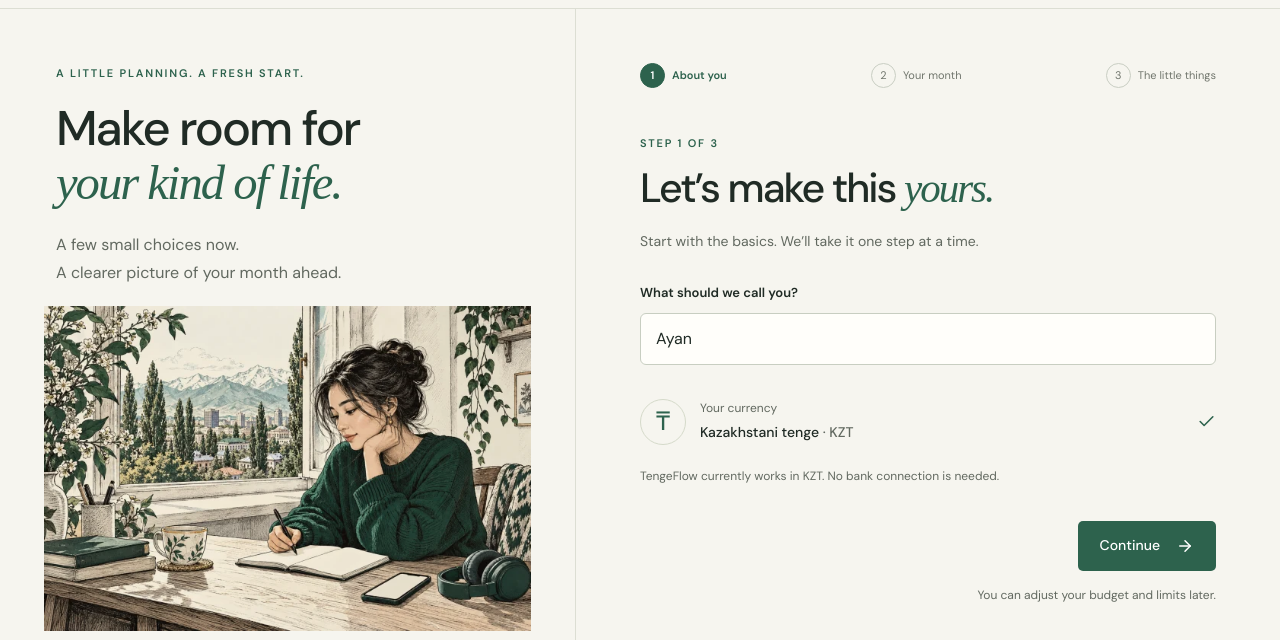
Test case: preserves edited limits when going back to change the budget
The width and height of the screenshot is (1280, 640).
Click the button "Continue": (1147,546) [1078,521,1216,571]
(page scrolled)
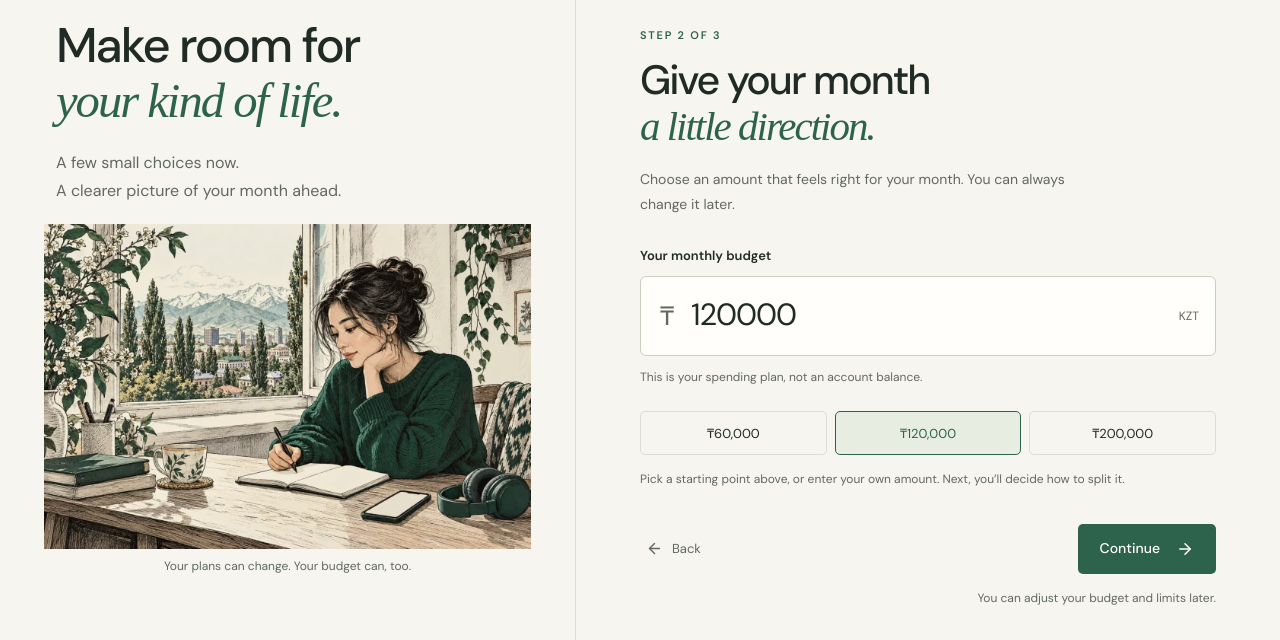
Click the button "Continue": (1147,549) [1078,524,1216,574]
(page scrolled)
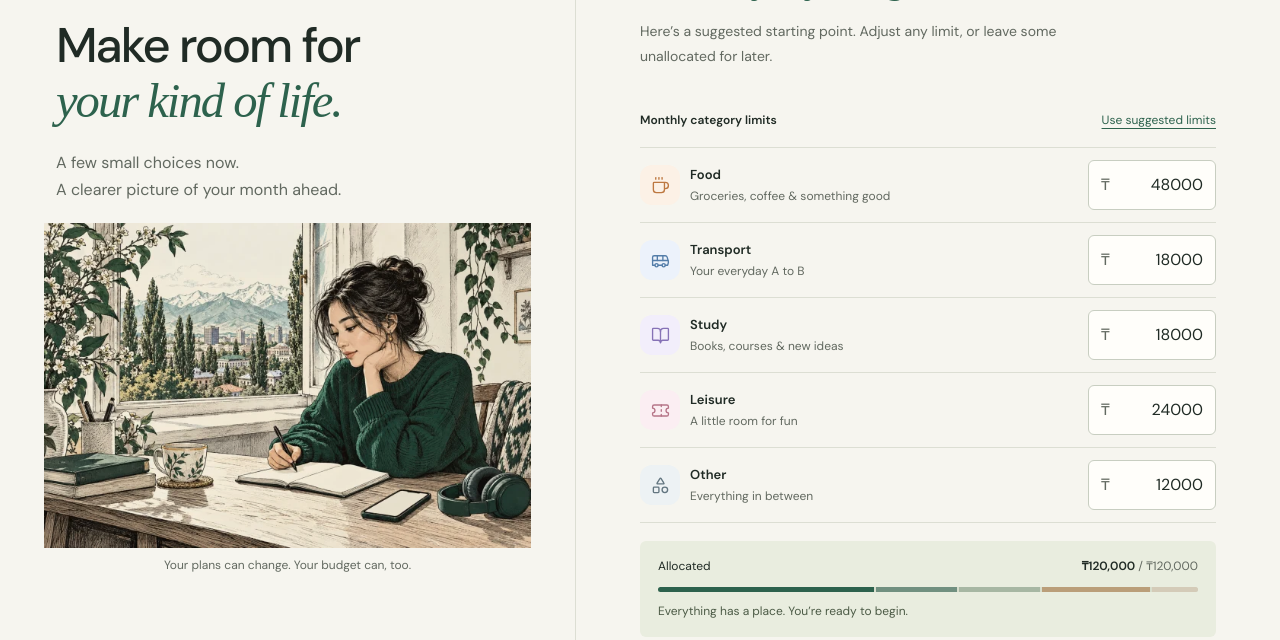
Replace the text in the field named "Food monthly limit" with "12345.67": (1152,185) [1088,160,1216,210]
(page scrolled)
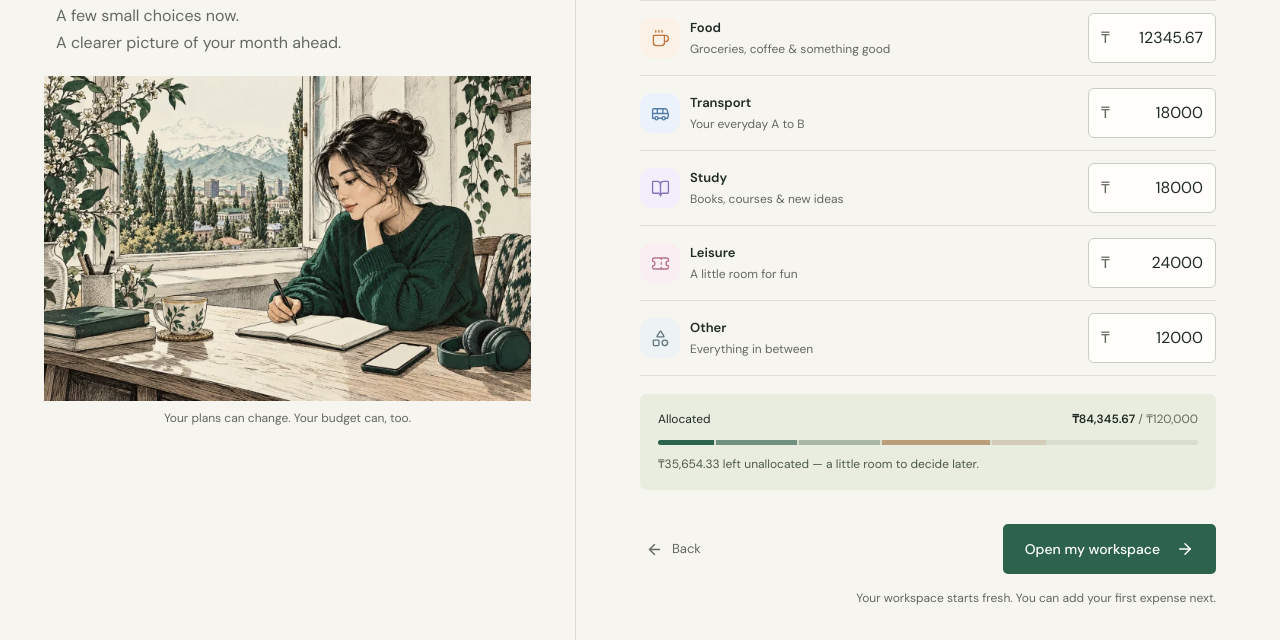
Click the button "Back": (673,549) [640,524,707,574]
(page scrolled)
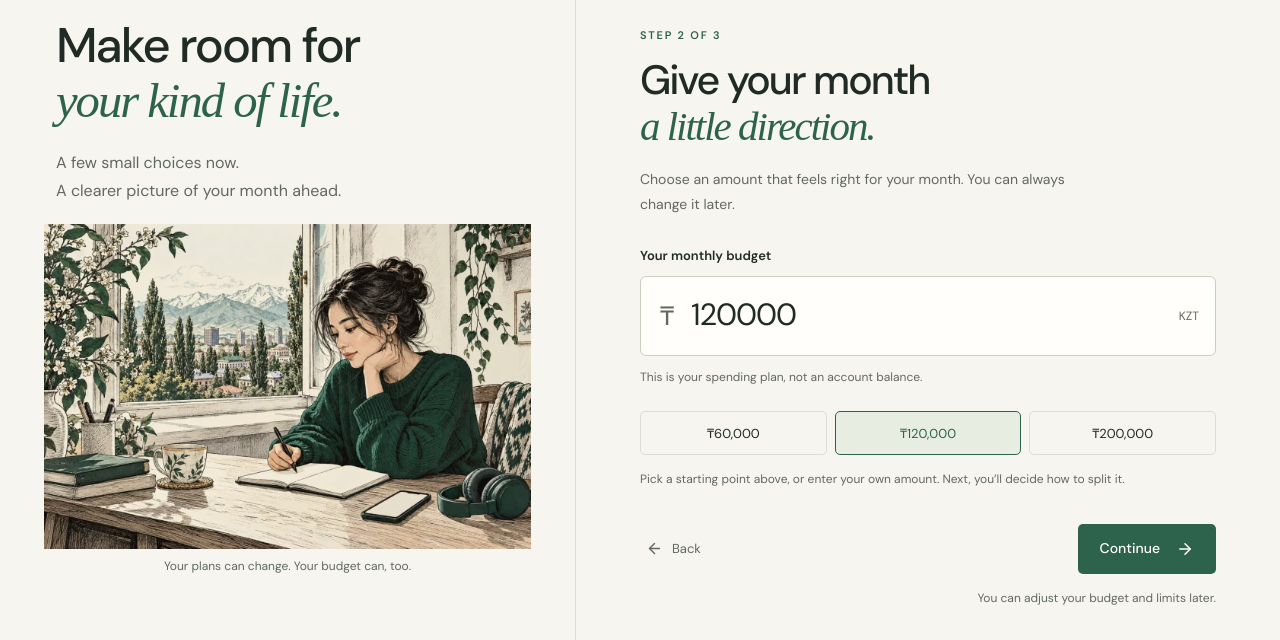
Replace the text in the field labelled "Your monthly budget" with "60000": (928,316) [640,276,1216,356]
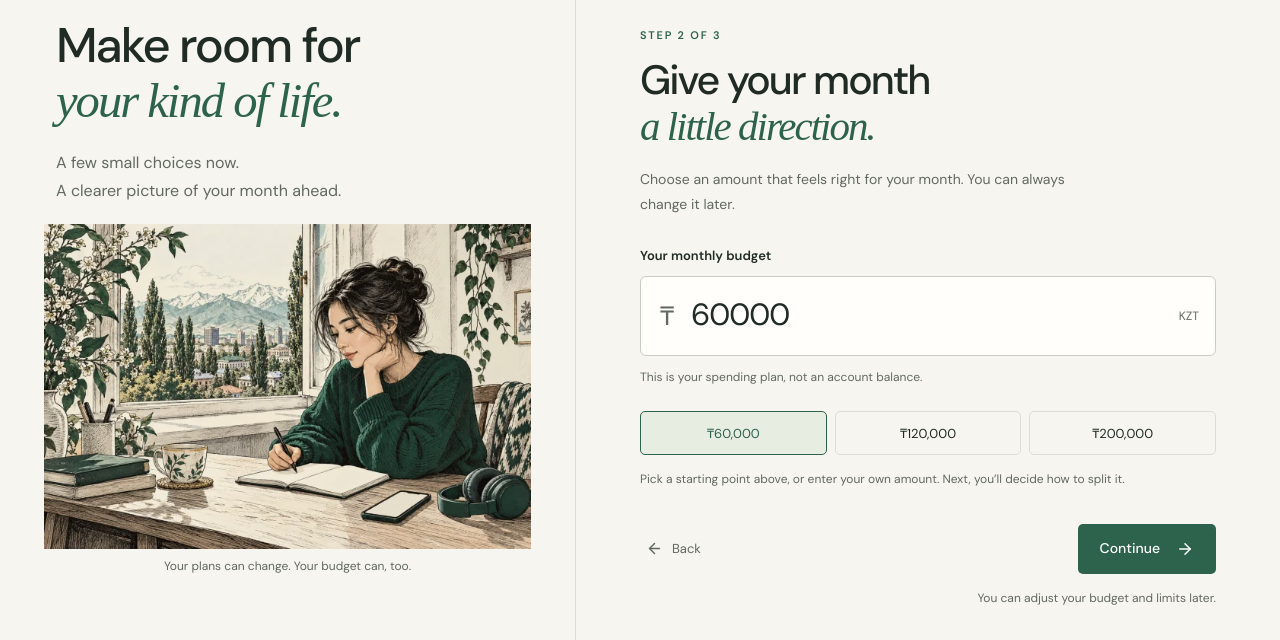
Click the button "Continue": (1147,549) [1078,524,1216,574]
(page scrolled)
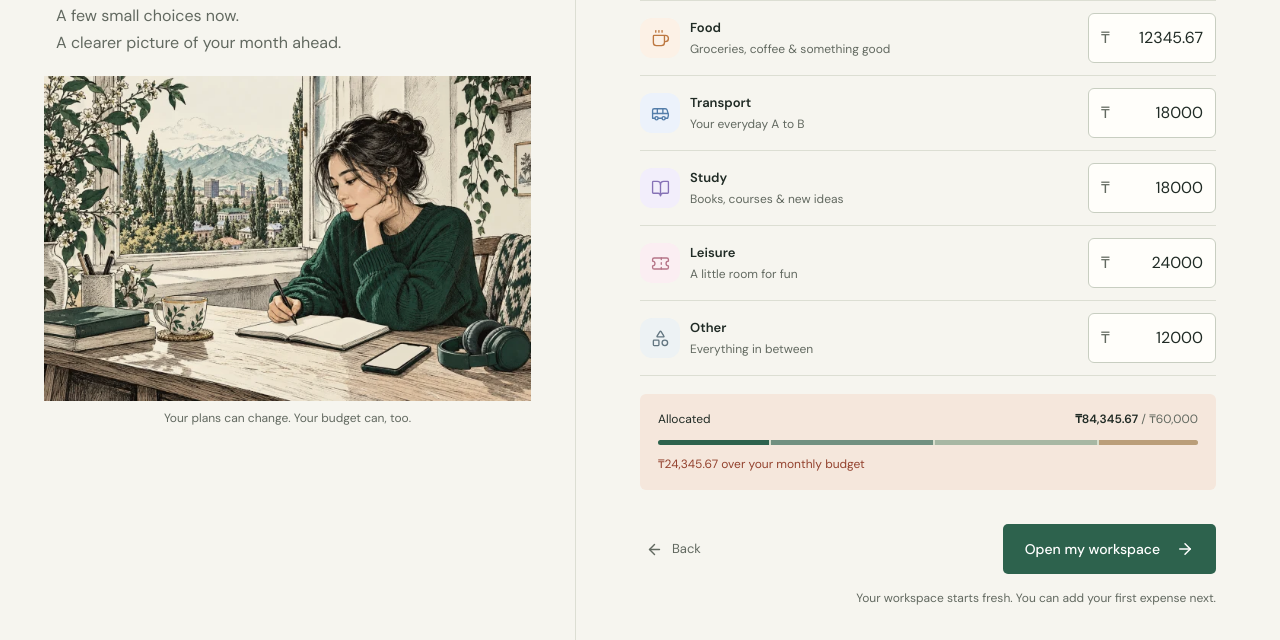
Now the field named "Food monthly limit" holds "12345.67", box [1088,13,1216,63]
Now the text "₸24,345.67 over your monthly budget" is shown, box [658,456,865,472]
